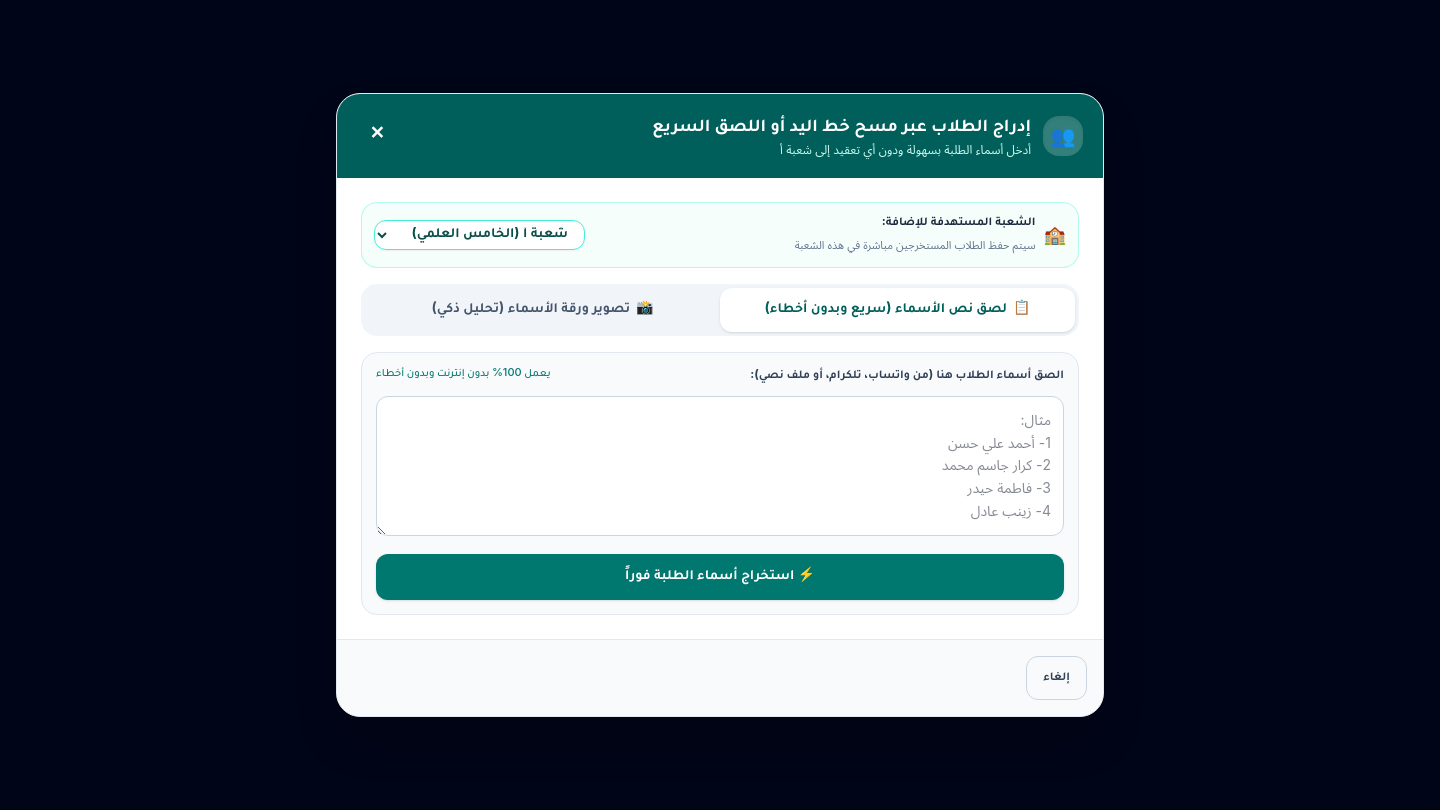
StudentRosterOcrModal Roster Extraction & Target Division Suite › allows changing the target division and submits candidates to the chosen division
This screenshot has width=1440, height=810.
Select "شعبة ج (الخامس العلمي)" in the dropdown at (480, 235), box [374,220,585,250]
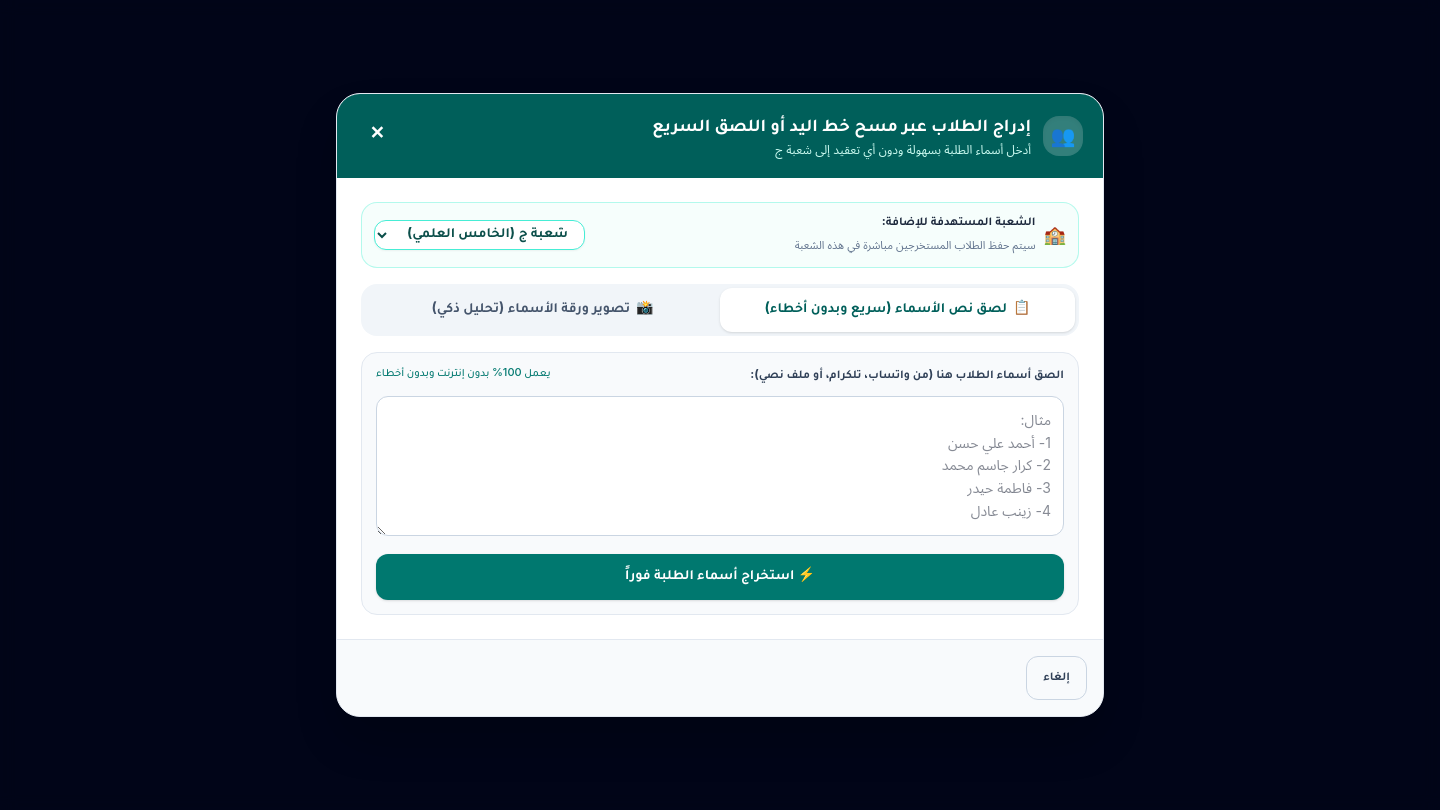
Expected: the text "شعبة ج" is shown, [775,142,812,157]
